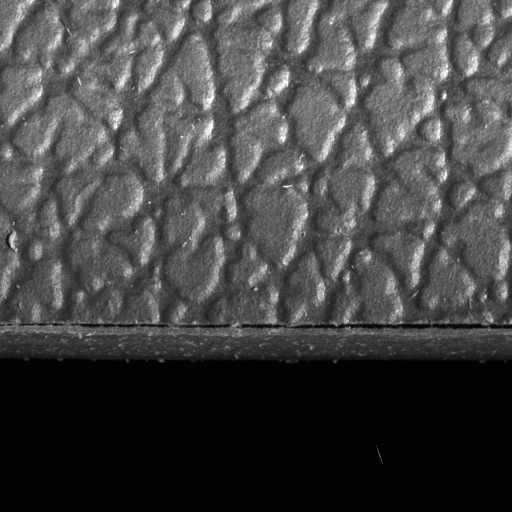jiaofeng: (72, 320, 511, 341)
